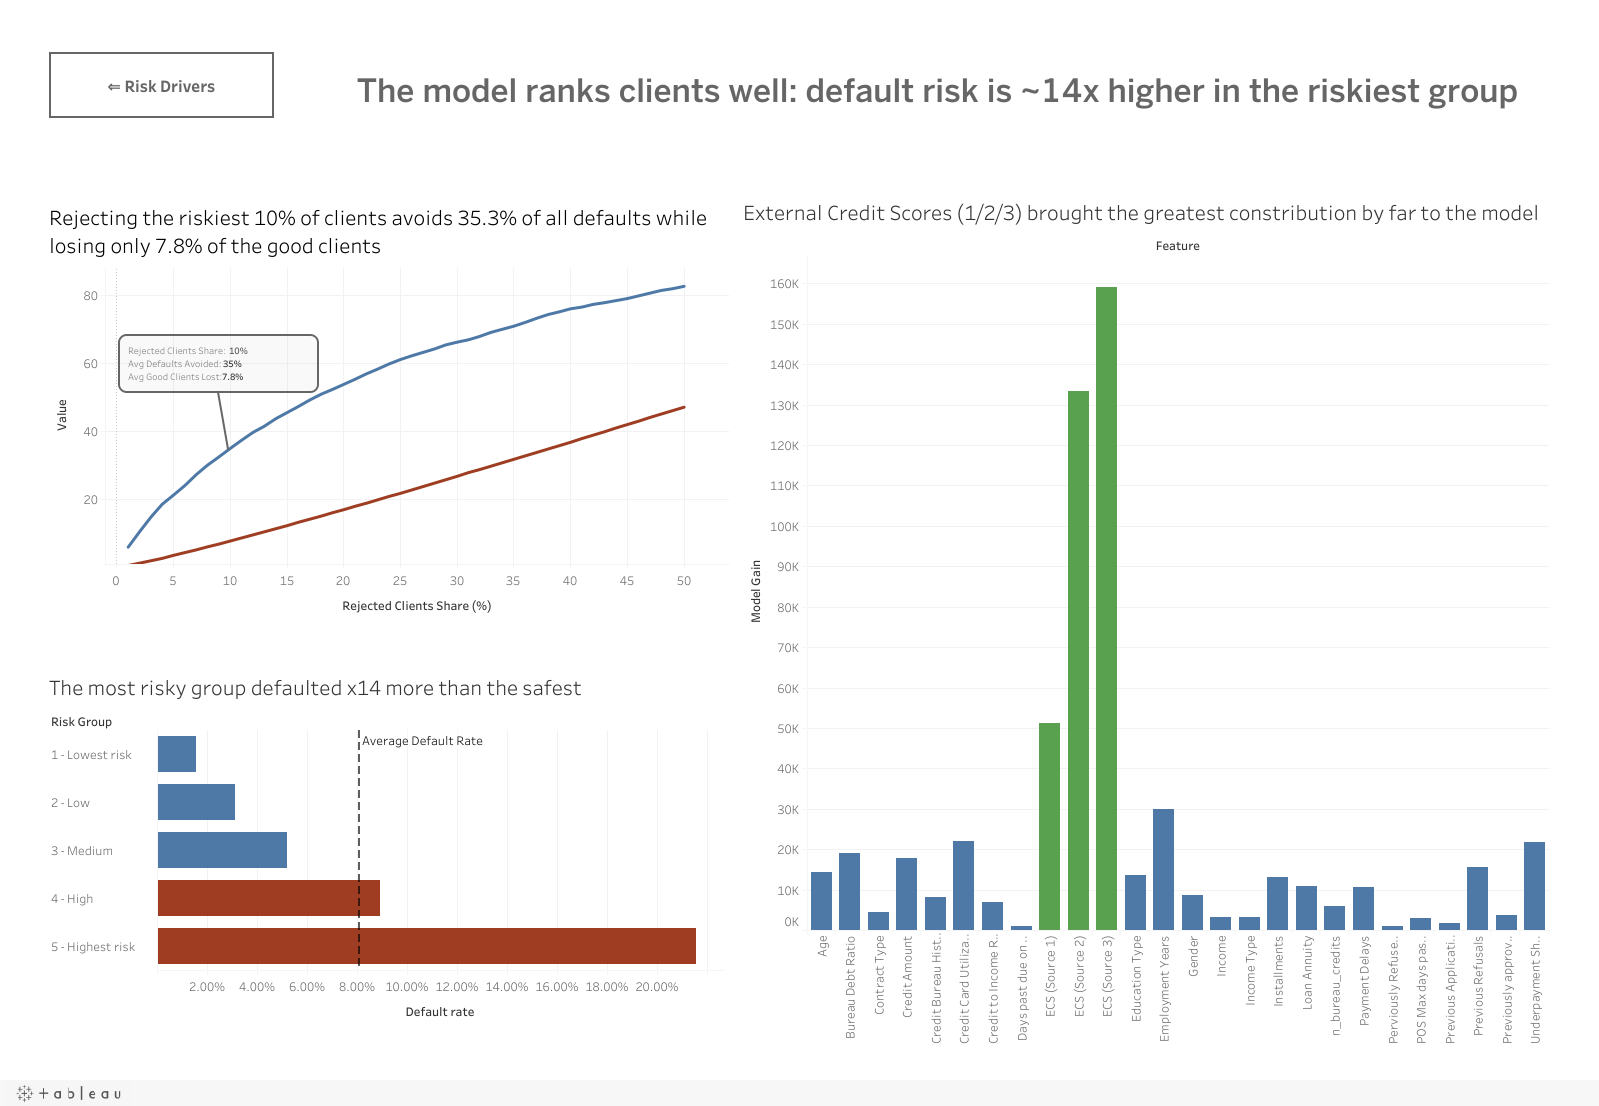

The dashboard page shown, as its layout file describes it:
{"tool":"tableau","page":{"name":"Model results","canvas":[1000,1000],"units":"permille","ordinal":0},"visuals":[{"type":"text","box":[201,21.2,769.9,125.7]},{"type":"dashboard-object","box":[30.9,48.2,140.4,61.1]},{"type":"worksheet","title":"Model gains by features","mark":"Automatic","rows":["gain"],"cols":["feature"],"box":[462,178.1,505.9,790]},{"type":"worksheet","title":"Business Scenario","mark":"Line","cols":["rejected_share_pct"],"box":[27.8,182.7,427.9,392.7]}]}

Visuals, with their boxes on the dashboard's canvas, which has no fixed pixel size, in thousandths of its width and height (x1, y1, x2, y2). These are canvas units, not pixel positions in the 1599x1106 screenshot, which may show the page scaled, cropped or inside an application window:
text: pyautogui.locateOnScreen(201, 21, 971, 147)
dashboard-object: pyautogui.locateOnScreen(31, 48, 171, 109)
"Model gains by features" worksheet: pyautogui.locateOnScreen(462, 178, 968, 968)
"Business Scenario" worksheet (Line marks): pyautogui.locateOnScreen(28, 183, 456, 575)
